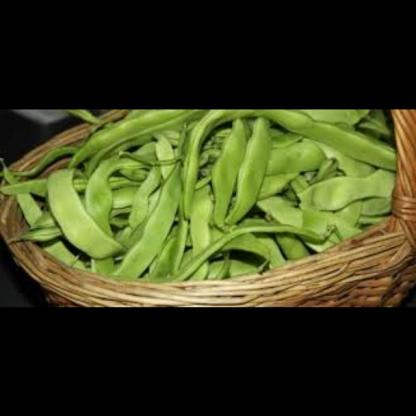fasol: (10, 109, 396, 266)
